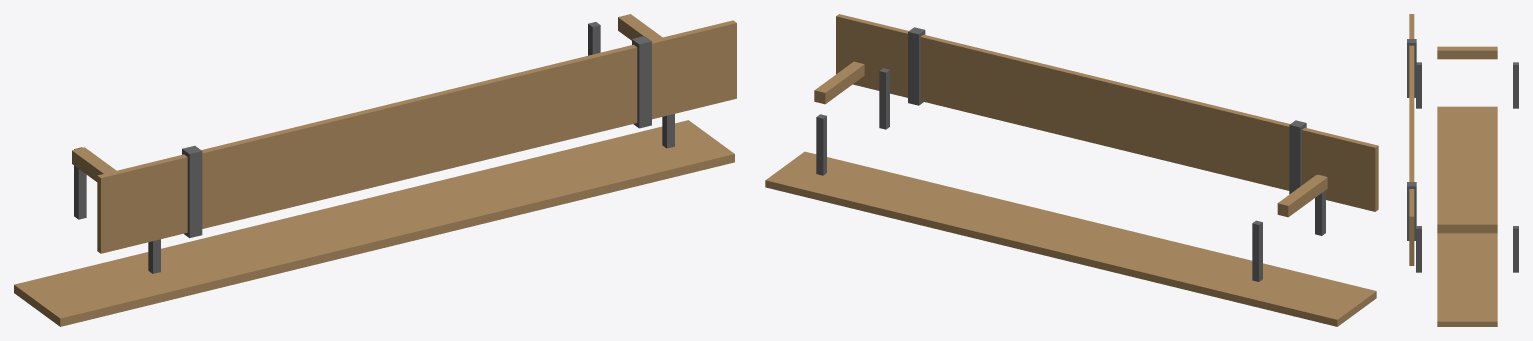
Rendered from bench.fbx.
The picture shows the model from 3 angles, left to right: view 1: azimuth 30°, elevation 25°; view 2: azimuth 150°, elevation 25°; view 3: azimuth 270°, elevation 25°; orthographic projection. The views are drawn at different scales.
Visible parts, largest first — view 1: Backrest_Plank_0, Backrest_Plank_3, Backrest_Plank_1, Backrest_Plank_2, Seat_Plank_1, Seat_Plank_4, Seat_Plank_2, Seat_Plank_3, Seat_Plank_0, Backrest_Leg_-0.7, Backrest_Leg_0.7, Armrest_-0.85 (+2 smaller); view 2: Backrest_Plank_0, Seat_Plank_0, Backrest_Plank_2, Backrest_Plank_1, Seat_Plank_2, Seat_Plank_4, Seat_Plank_3, Backrest_Plank_3, Seat_Plank_1, Armrest_-0.85, Armrest_0.85, Backrest_Leg_0.7 (+5 smaller); view 3: Seat_Plank_4, Seat_Plank_0, Seat_Plank_1, Seat_Plank_2, Armrest_-0.85, Armrest_0.85, Backrest_Plank_3, Seat_Plank_3, Backrest_Plank_1, Backrest_Plank_0, Backrest_Leg_-0.7, Backrest_Leg_0.7 (+5 smaller).
Part boxes in pixels (bbox=[...]): Backrest_Plank_0: bbox=[97, 105, 389, 253]; Backrest_Plank_3: bbox=[448, 20, 736, 168]; Backrest_Plank_1: bbox=[215, 77, 505, 225]; Backrest_Plank_2: bbox=[332, 48, 621, 196]; Seat_Plank_1: bbox=[111, 190, 445, 303]; Seat_Plank_4: bbox=[400, 120, 734, 224]; Seat_Plank_2: bbox=[250, 167, 542, 279]; Seat_Plank_3: bbox=[304, 144, 638, 250]; Seat_Plank_0: bbox=[14, 242, 348, 326]; Backrest_Leg_-0.7: bbox=[182, 145, 202, 238]; Backrest_Leg_0.7: bbox=[632, 36, 651, 128]; Armrest_-0.85: bbox=[72, 147, 116, 181]; Backrest_Plank_0: bbox=[1130, 86, 1378, 211]; Seat_Plank_0: bbox=[1093, 231, 1376, 326]; Backrest_Plank_2: bbox=[934, 38, 1130, 150]; Backrest_Plank_1: bbox=[1032, 62, 1279, 182]; Seat_Plank_2: bbox=[929, 191, 1212, 286]; Seat_Plank_4: bbox=[765, 151, 1047, 246]; Seat_Plank_3: bbox=[847, 171, 1107, 266]; Backrest_Plank_3: bbox=[836, 14, 1029, 124]; Seat_Plank_1: bbox=[1011, 211, 1283, 306]; Armrest_-0.85: bbox=[1277, 174, 1327, 217]; Armrest_0.85: bbox=[814, 61, 864, 104]; Backrest_Leg_0.7: bbox=[908, 27, 925, 105]; Seat_Plank_4: bbox=[1437, 235, 1497, 326]; Seat_Plank_0: bbox=[1437, 106, 1497, 198]; Seat_Plank_1: bbox=[1437, 137, 1497, 220]; Seat_Plank_2: bbox=[1437, 168, 1497, 259]; Armrest_-0.85: bbox=[1437, 46, 1497, 59]; Armrest_0.85: bbox=[1437, 220, 1497, 233]; Backrest_Plank_3: bbox=[1409, 128, 1414, 265]; Seat_Plank_3: bbox=[1437, 198, 1497, 287]; Backrest_Plank_1: bbox=[1409, 51, 1414, 142]; Backrest_Plank_0: bbox=[1409, 14, 1414, 89]; Backrest_Leg_-0.7: bbox=[1407, 39, 1416, 97]; Backrest_Leg_0.7: bbox=[1407, 182, 1416, 240].
Bounding box in the file's own units: 2.1 × 0.4875 × 0.4625.
